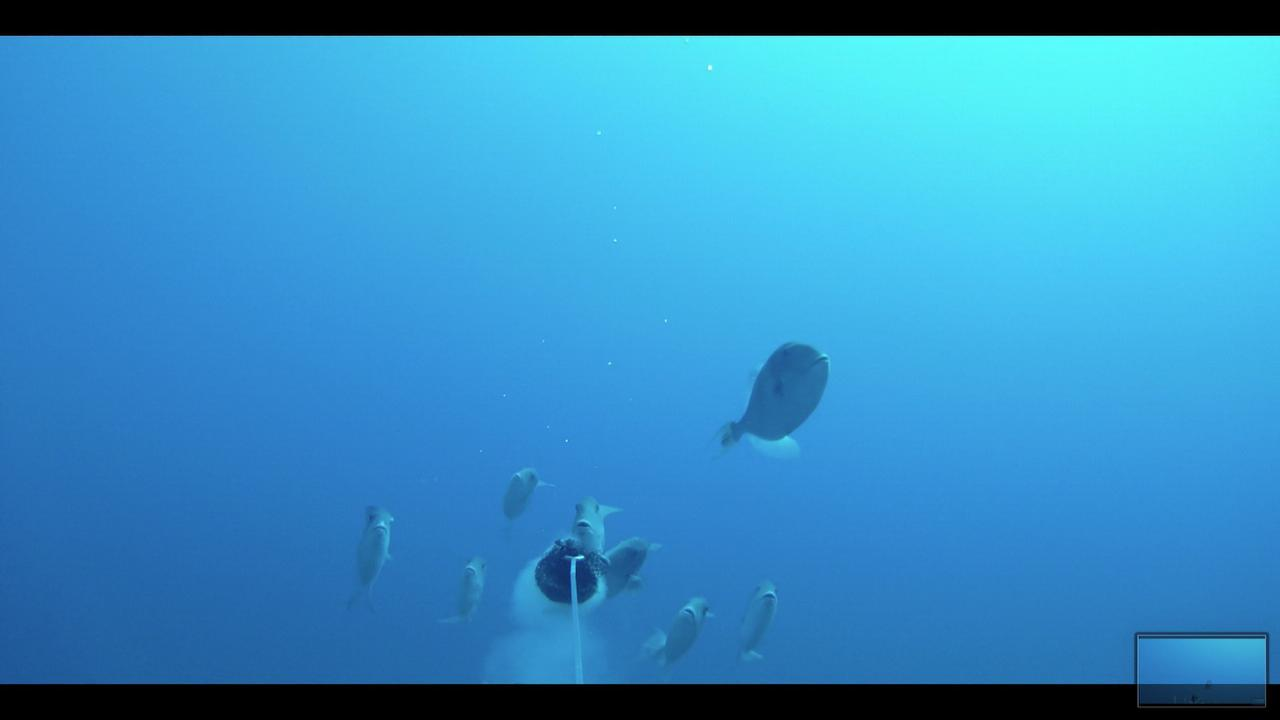balistes: (713, 339, 831, 455), (331, 497, 408, 608), (643, 589, 716, 665), (489, 459, 557, 525), (735, 575, 781, 670), (447, 547, 497, 630), (562, 490, 618, 555)
